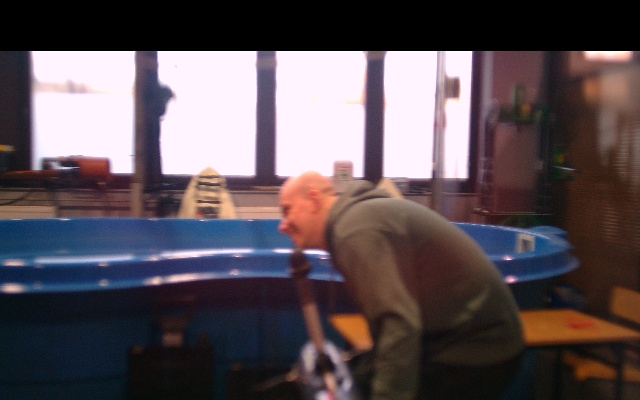black: (300, 298, 328, 361)
